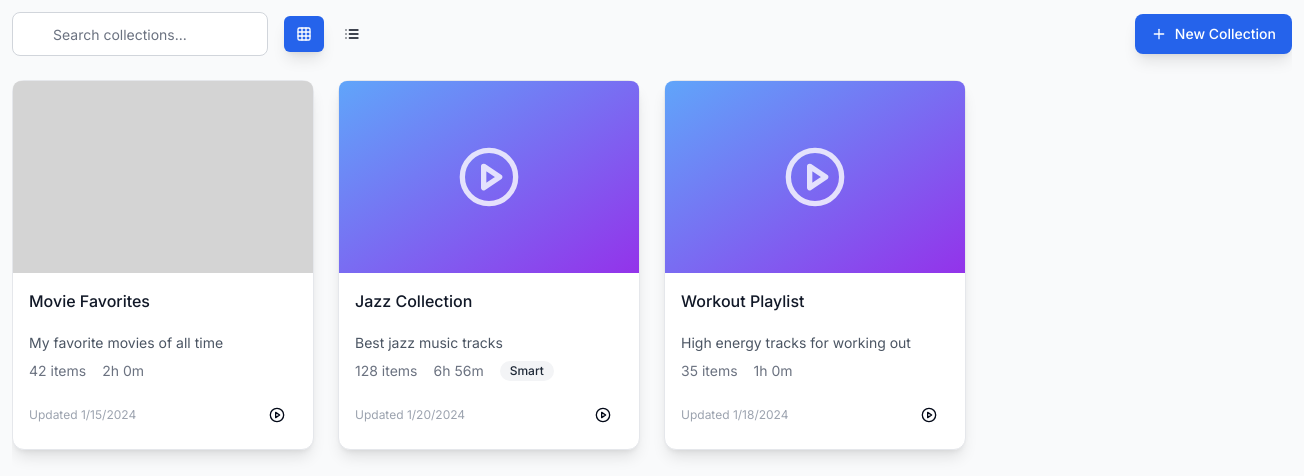
Scenario: CollectionsManager › filters collections by search query
This screenshot has width=1304, height=476.
In the field with placeholder "Search collections...": (140, 34) x1=12 y1=12 x2=268 y2=56, type "Jazz"
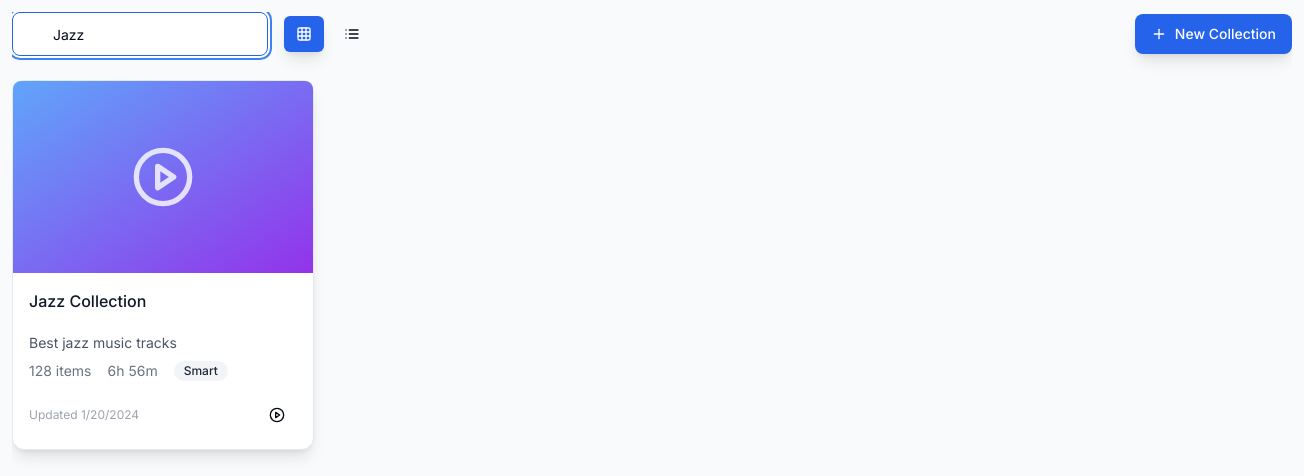
Expected: the heading "Jazz Collection" is shown, x1=29 y1=289 x2=146 y2=313
Expected: the heading "Movie Favorites" is gone
Expected: the heading "Workout Playlist" is gone
